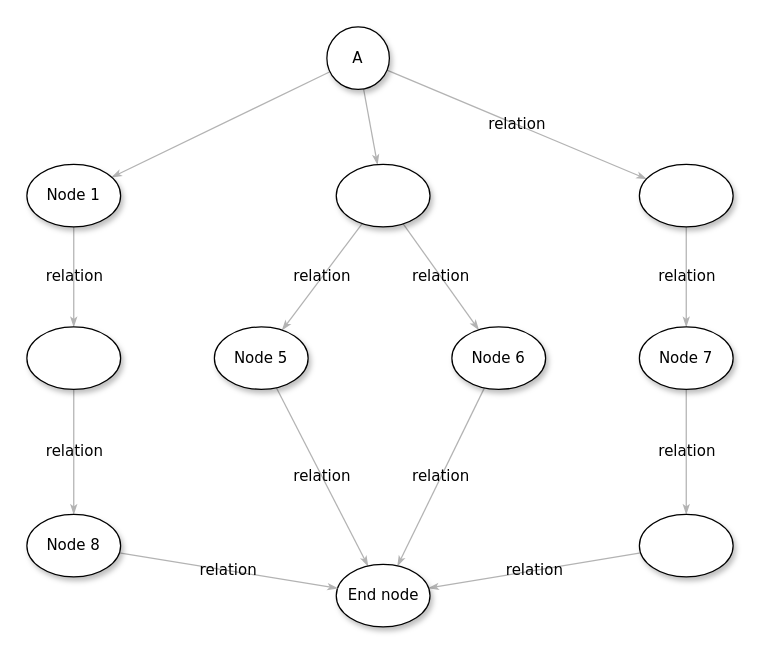
This 763x658 diagram has some shape labels left out. The shapes that lost their labels are listed below. From the top down, each one's centre as x and y in pixels, then its label:
At point (384, 197): "Node 2".
At point (687, 197): "Node 3".
At point (74, 359): "Node 4".
At point (687, 547): "Node 9".
